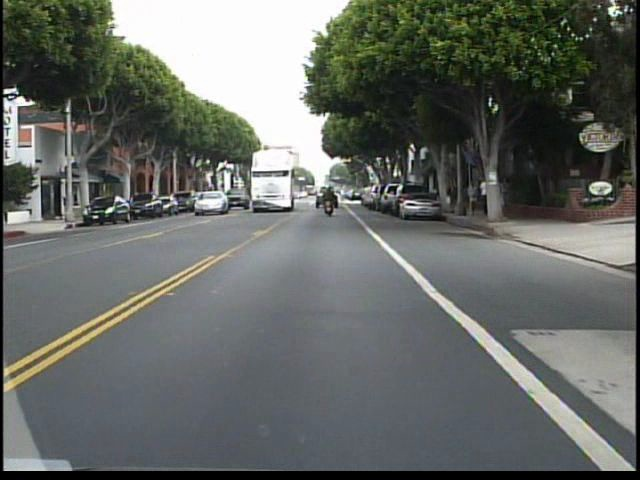person: (320, 181, 339, 220), (500, 172, 515, 220), (466, 175, 481, 218), (477, 175, 489, 219)
